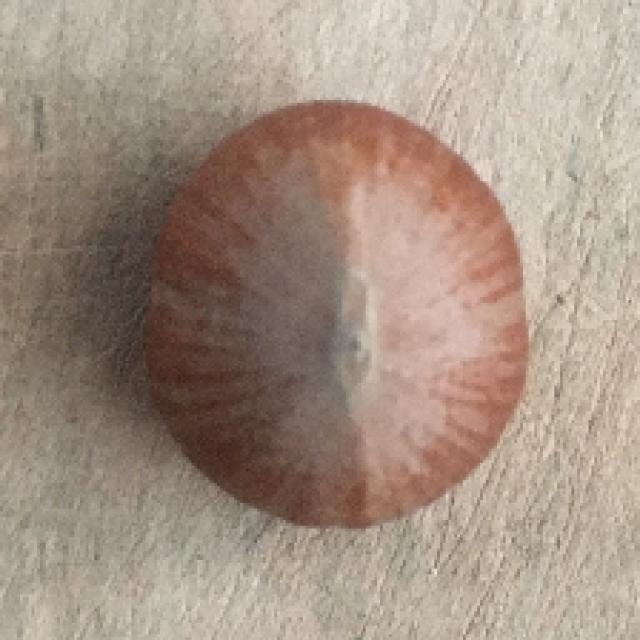QualityHazelnut: (145, 97, 528, 527)
